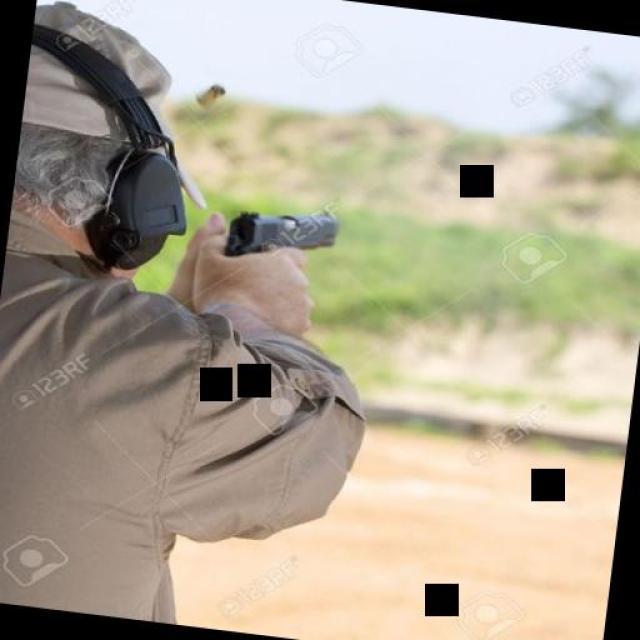gun: (212, 190, 352, 272)
